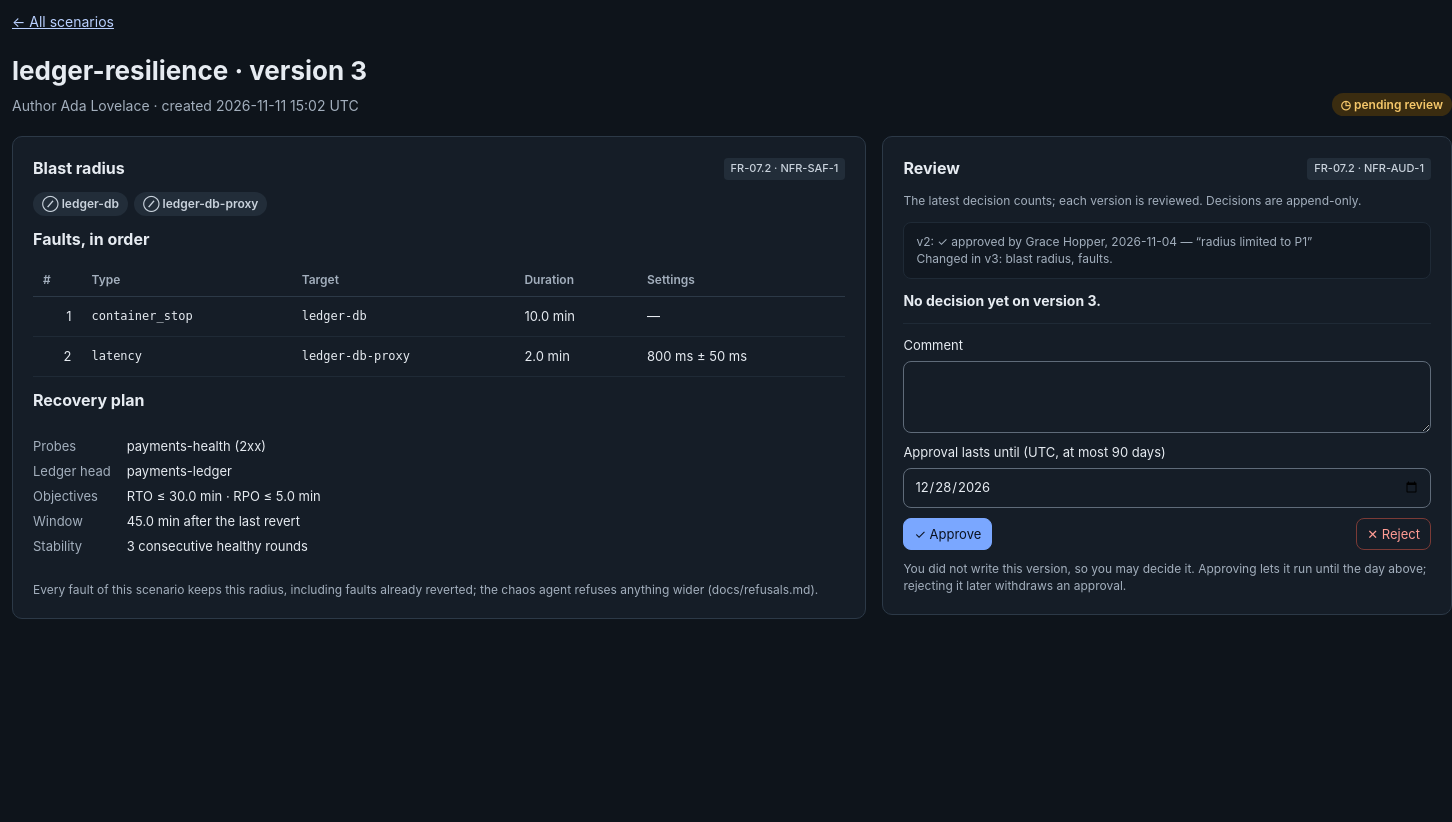
Test case: Chaos scenarios (FR-07.1, FR-07.2, NFR-SAF-1) › shows the API's refusal
Click the button "✓ Approve".
click(948, 534)  # box [903, 518, 992, 550]
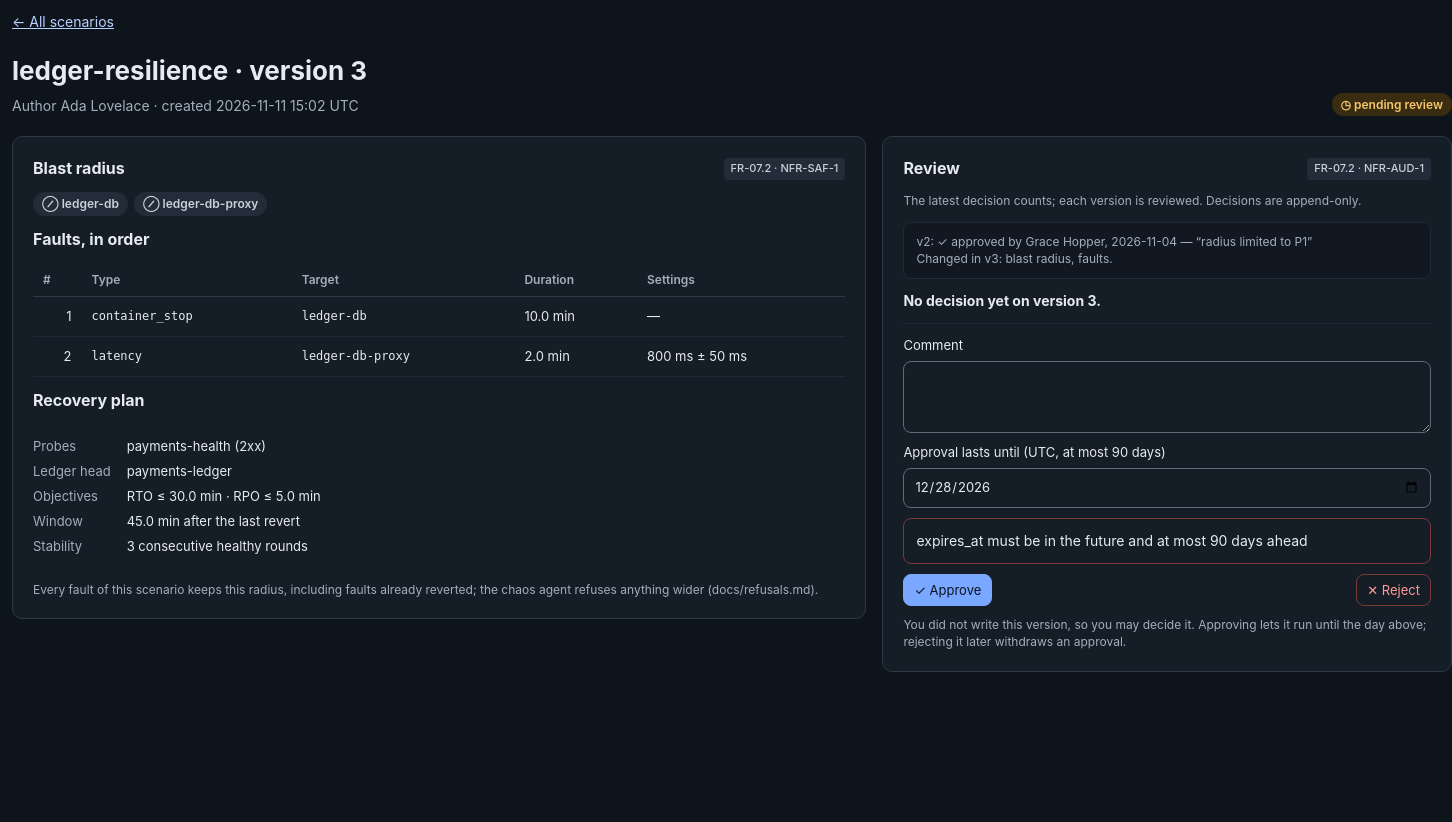
Result: the message shows "at most 90 days ahead" at [916, 532, 1308, 549]
